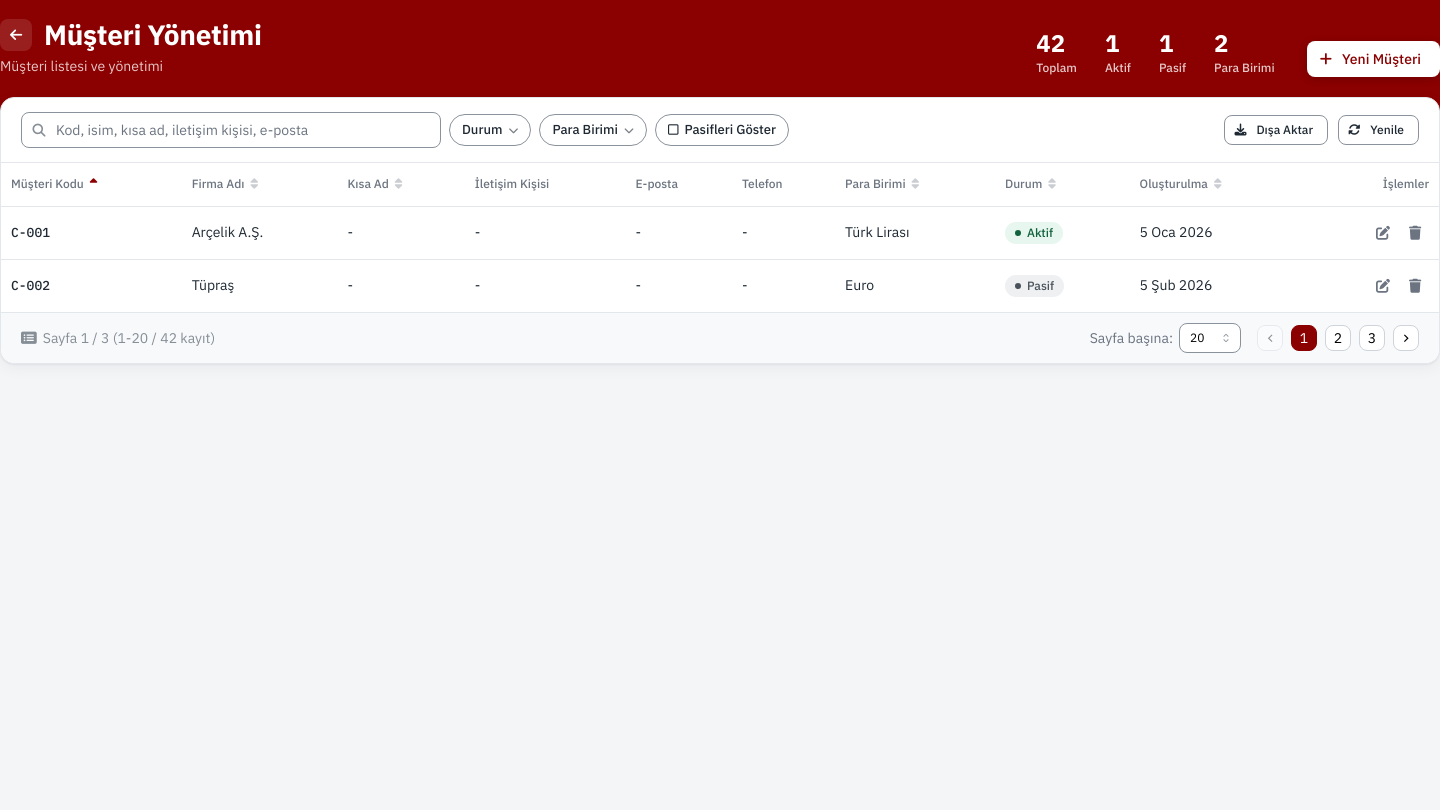
Test: cancelling the confirm deletes nothing
Expected: the text "C-001" is shown, [11,224,50,241]
Click the button named "Sil" in the row of "C-001": (1415, 233) [1401,219,1429,247]
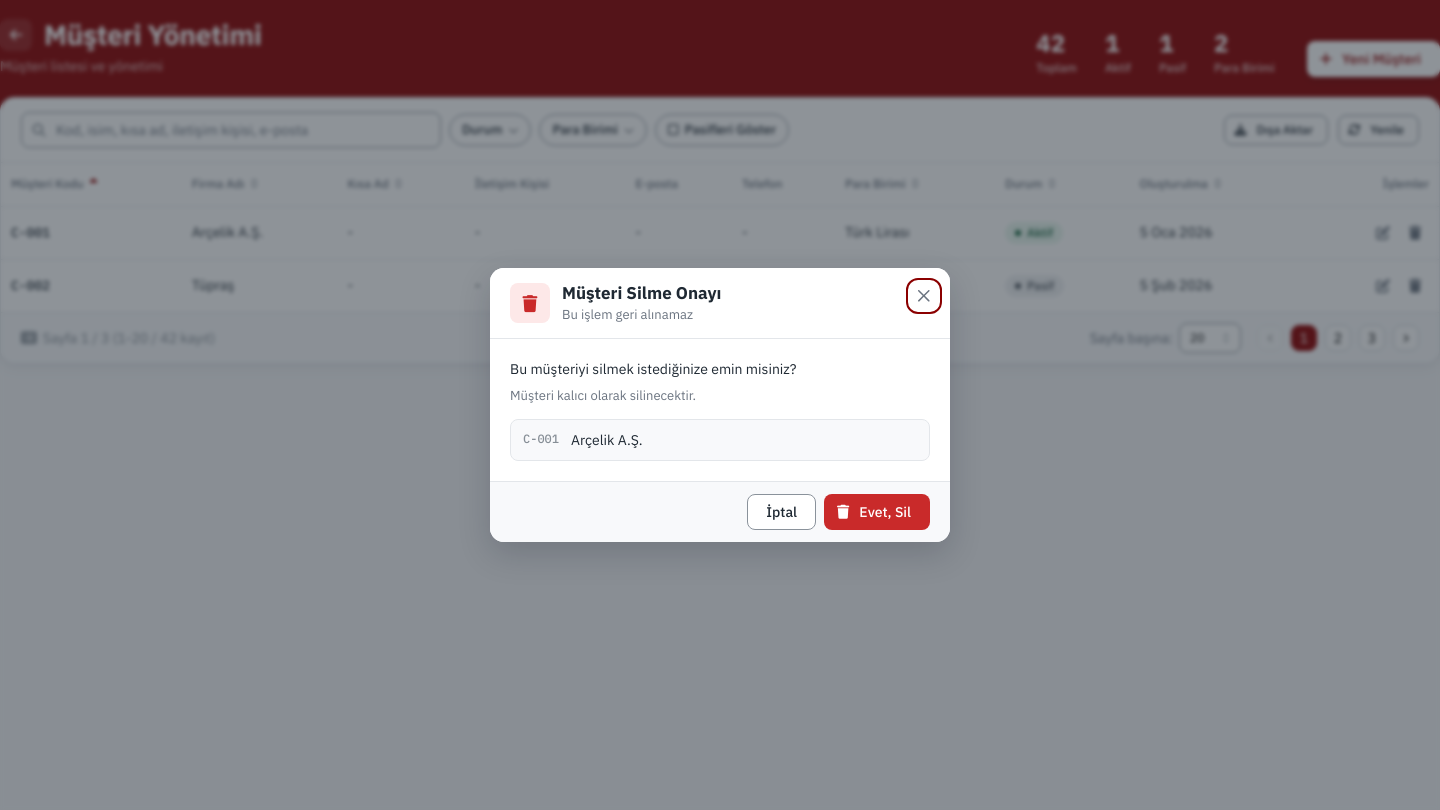
Click the button "İptal": (782, 512) [747,494,816,530]
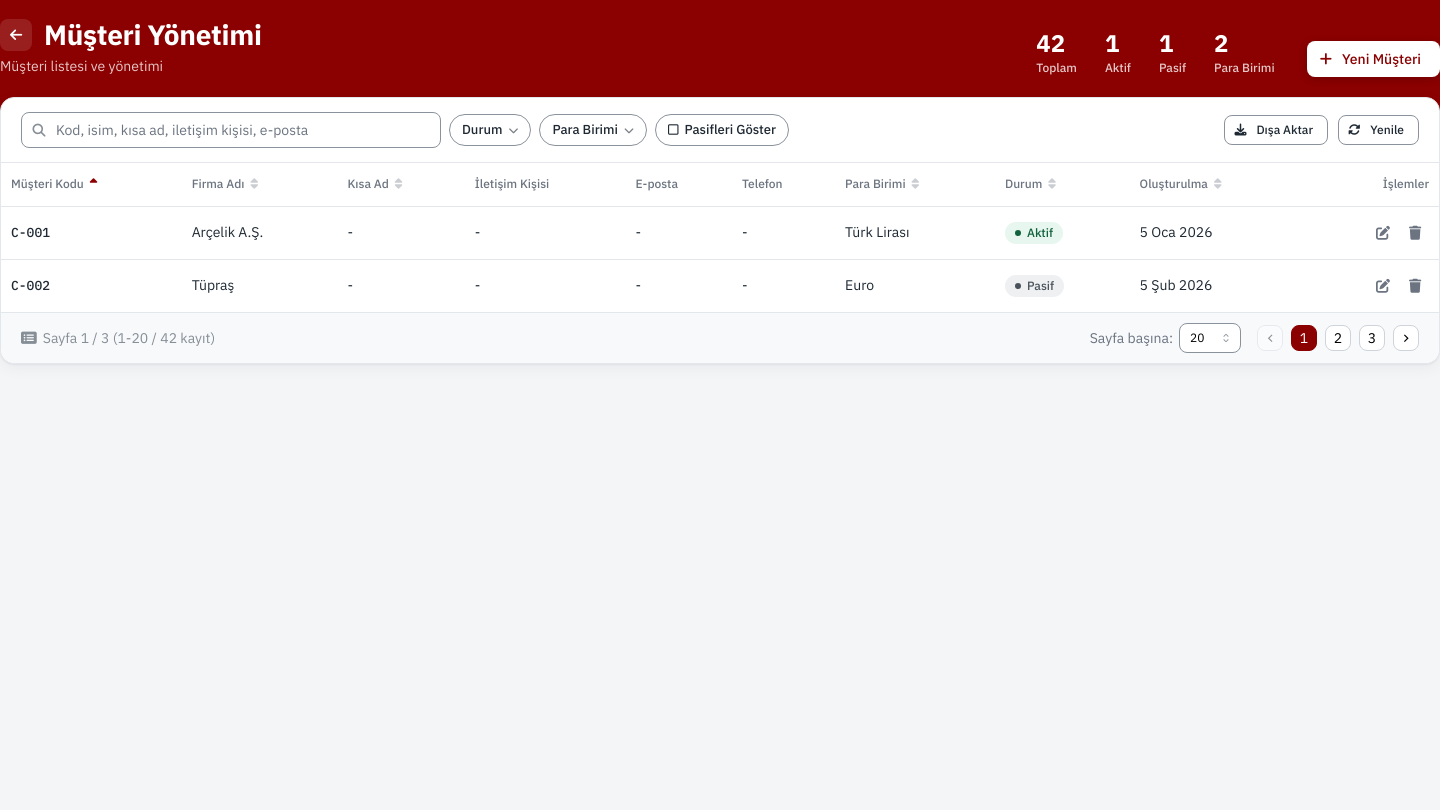
Result: the text "Bu müşteriyi silmek istediğinize emin misiniz?" is gone
